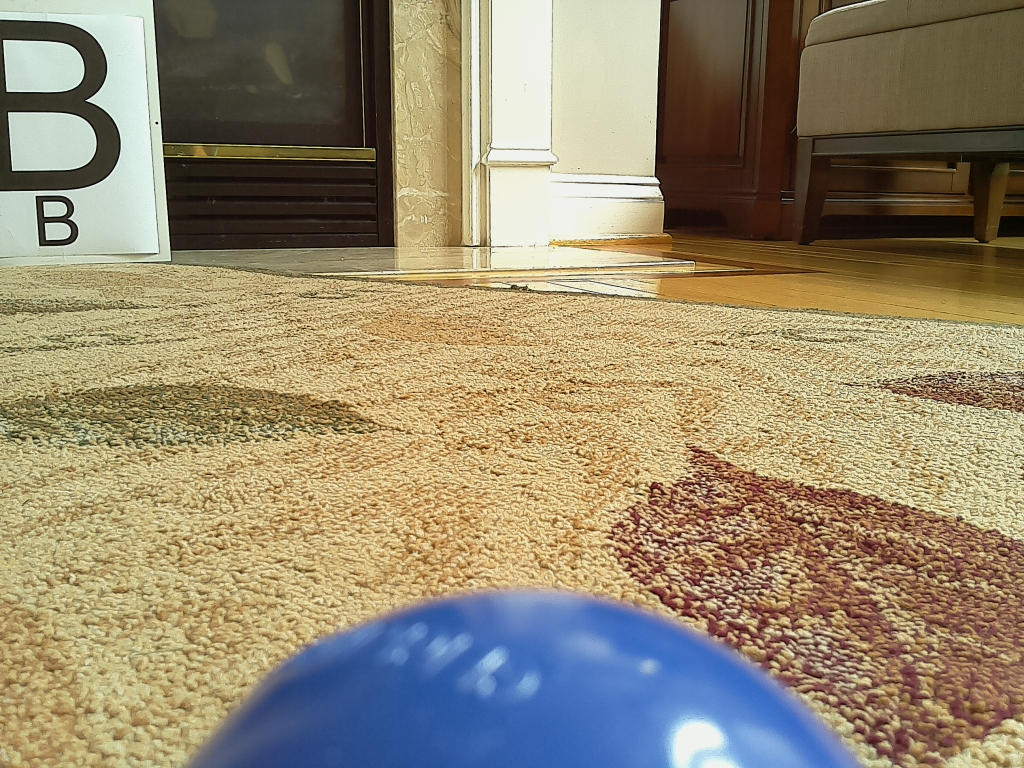letter: (1, 19, 121, 192)
